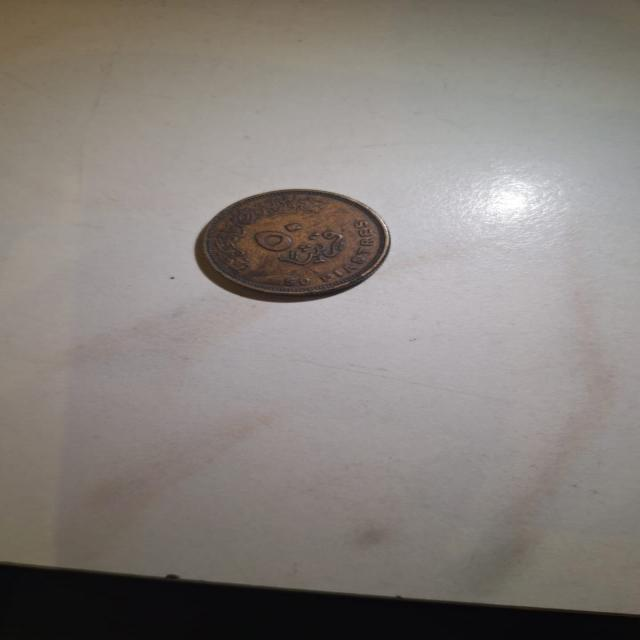Half Pound: (185, 182, 403, 313)
